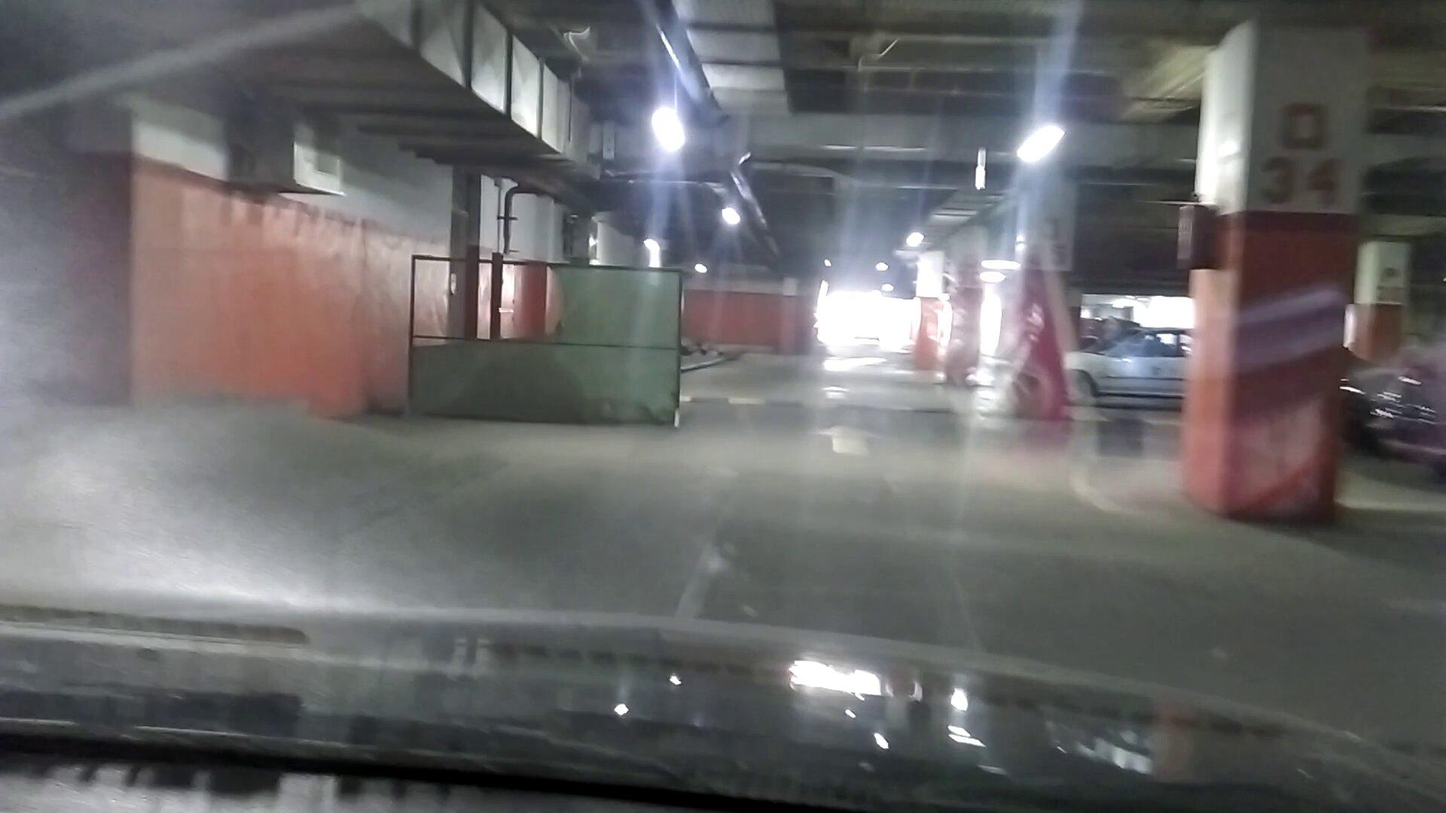Bump: (682, 391, 976, 418)
